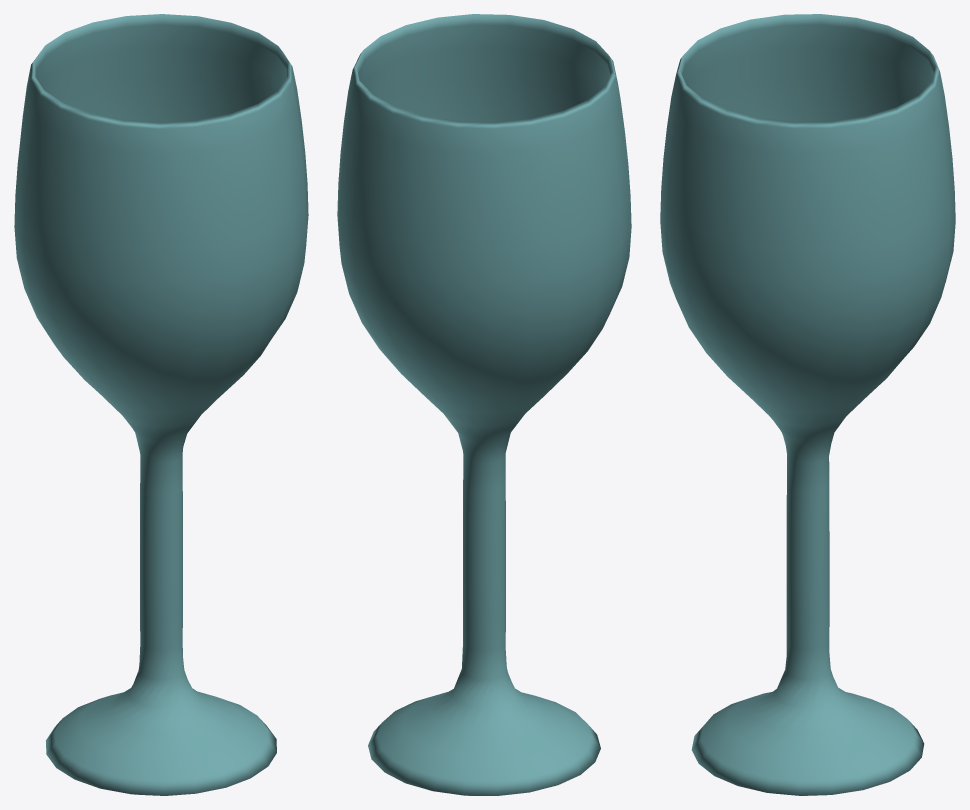
The model's file is COPA1.fbx.
3 views of the same model, side by side, from view 1: azimuth 30°, elevation 25°; view 2: azimuth 150°, elevation 25°; view 3: azimuth 270°, elevation 25° (orthographic).
Visible parts, largest first — view 1: copa1; view 2: copa1; view 3: copa1.
Boxes of the visible parts, x1=… form: copa1: x1=14, y1=14, x2=308, y2=795; copa1: x1=337, y1=14, x2=631, y2=795; copa1: x1=660, y1=14, x2=955, y2=795.
Size of the model in its own units: 9.27 by 24.14 by 9.36.
